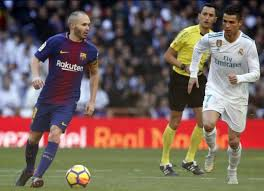barcelona: (8, 8, 112, 191)
realmadrid: (188, 8, 264, 189)
